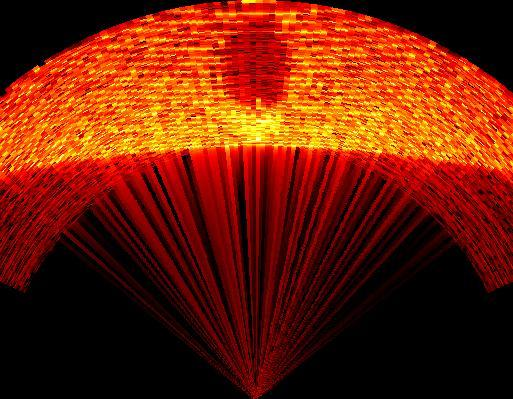box_crate: (221, 22, 288, 112)
